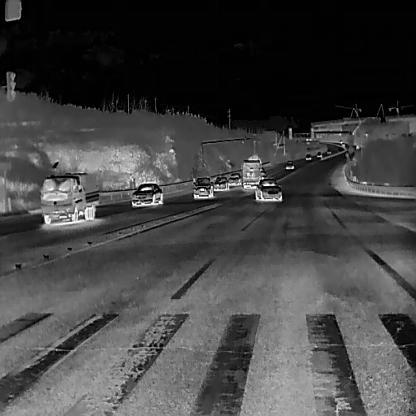car: (38, 171, 99, 224), (131, 182, 163, 207), (240, 154, 261, 189), (255, 177, 282, 201), (192, 177, 213, 199), (213, 175, 229, 190), (228, 172, 241, 186), (258, 168, 267, 180), (285, 159, 294, 169), (305, 153, 312, 160), (316, 150, 322, 157), (336, 147, 341, 152), (326, 148, 331, 153), (355, 142, 359, 148), (341, 141, 345, 147), (339, 139, 343, 143)
